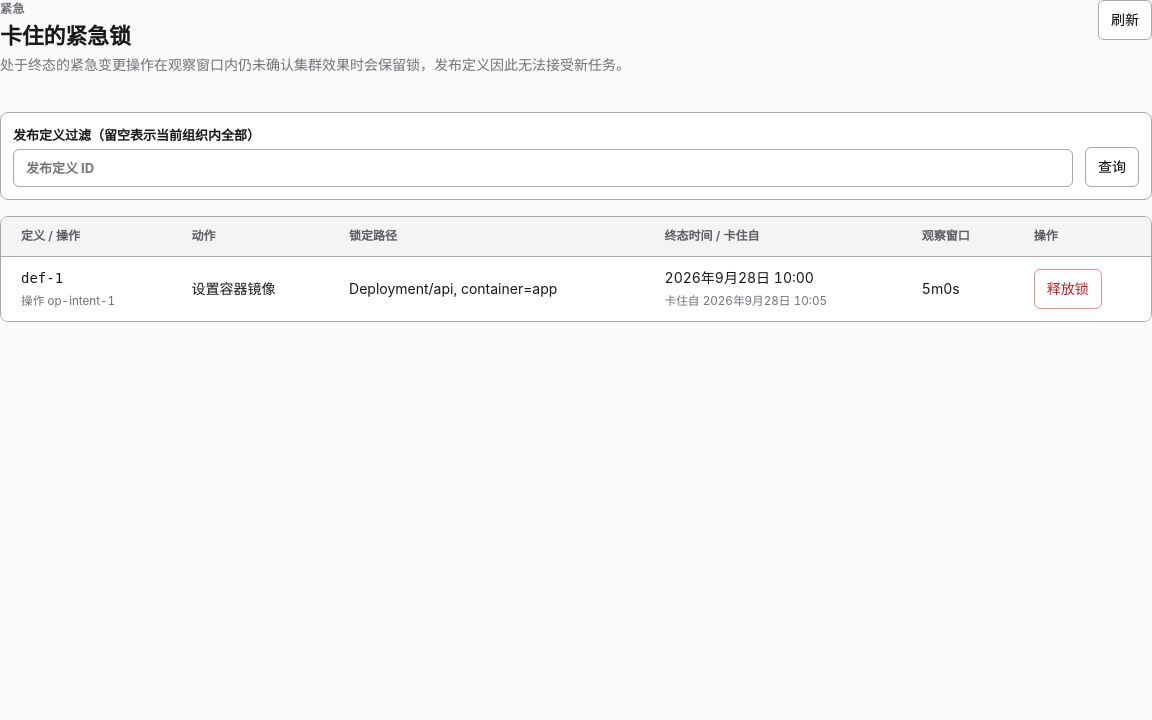
Test: StuckLocksPage › releases with the chosen mode and closes the dialog on success
Click the button "释放锁". click: (1068, 289)
box: [1034,269,1102,309]
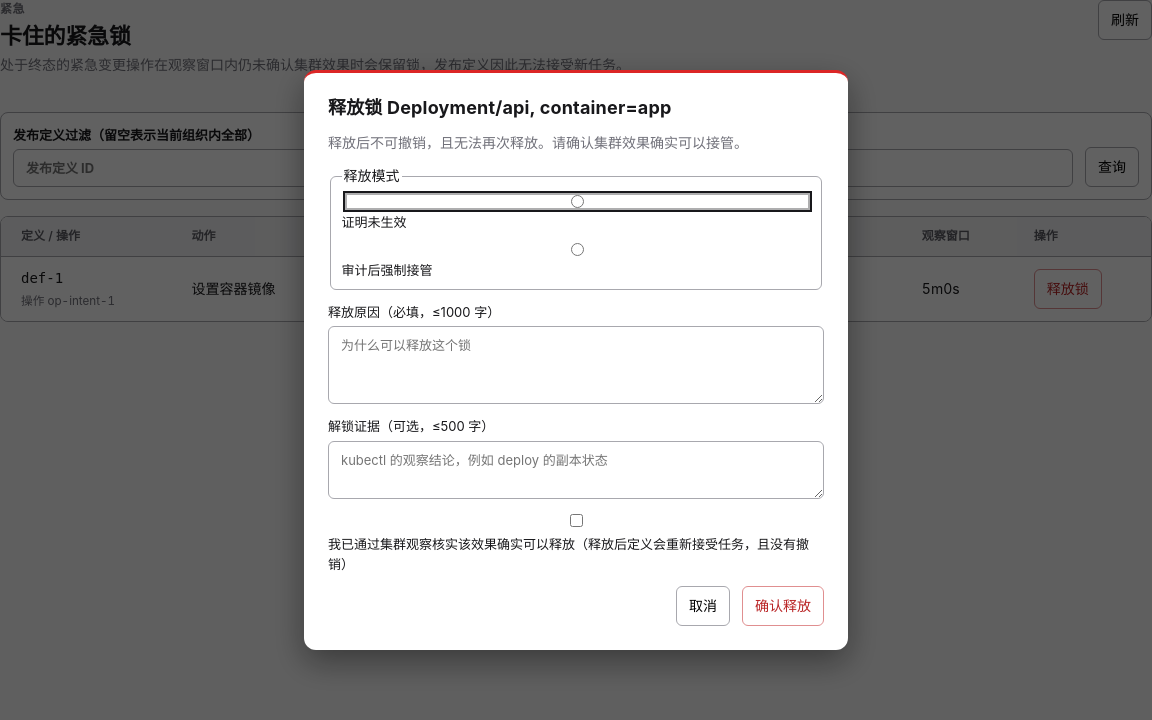
Type "cannot prove, taking over" into the text box labelled "释放原因（必填，≤1000 字）". click: (576, 365)
box: [328,326,824,404]
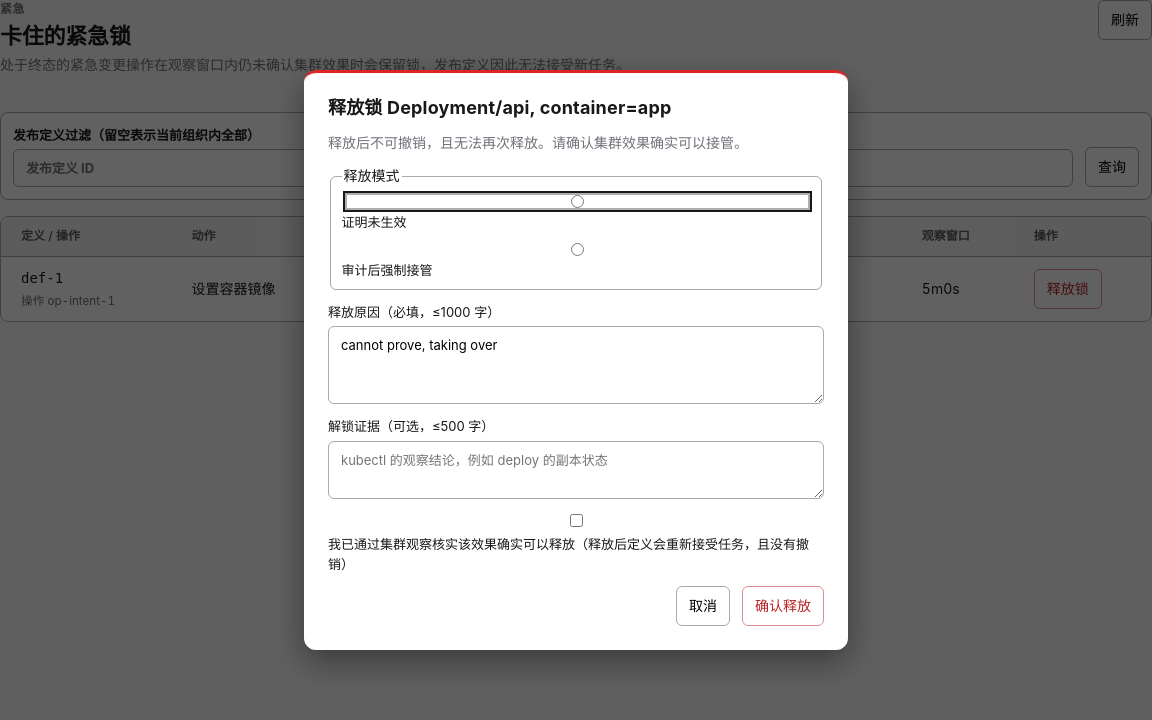
Type "pods still old" into the text box labelled "解锁证据（可选，≤500 字）". click: (576, 470)
box: [328,441,824,499]
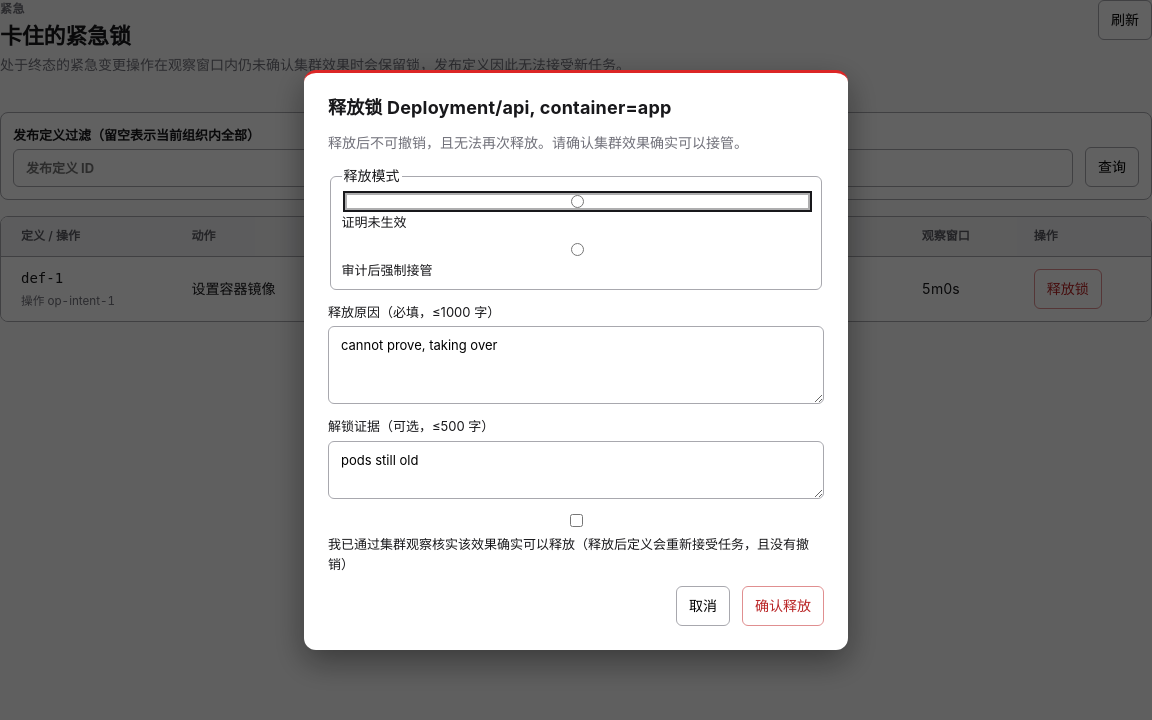
Click the radio button labelled "审计后强制接管". click: (577, 250)
box: [346,243,808,256]
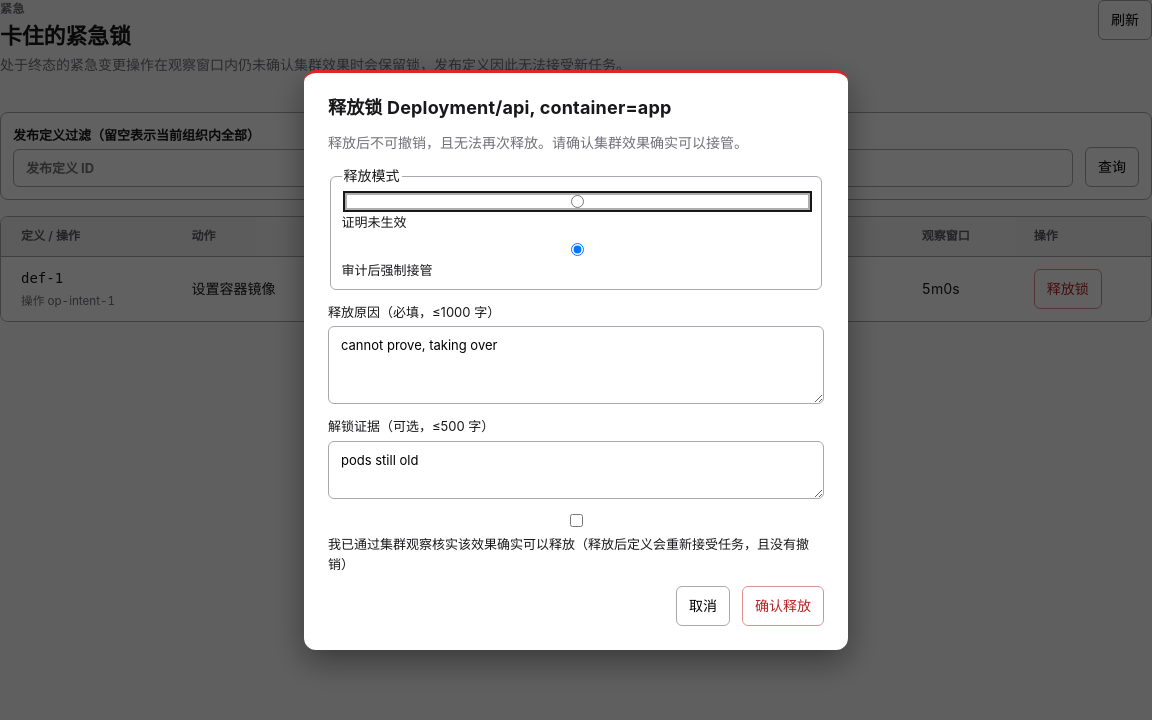
Click the checkbox named "acknowledged". click: (576, 520)
box: [332,514,821,527]
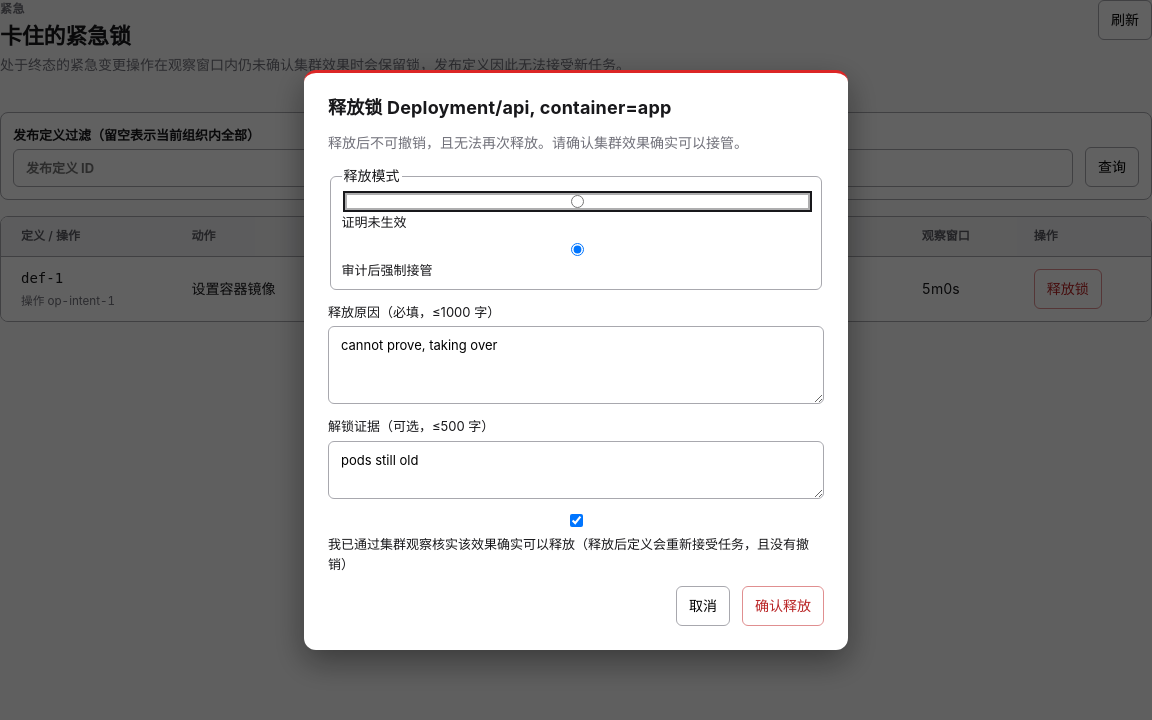
Submit the form with class "stuck__form", box [328,165,824,626]
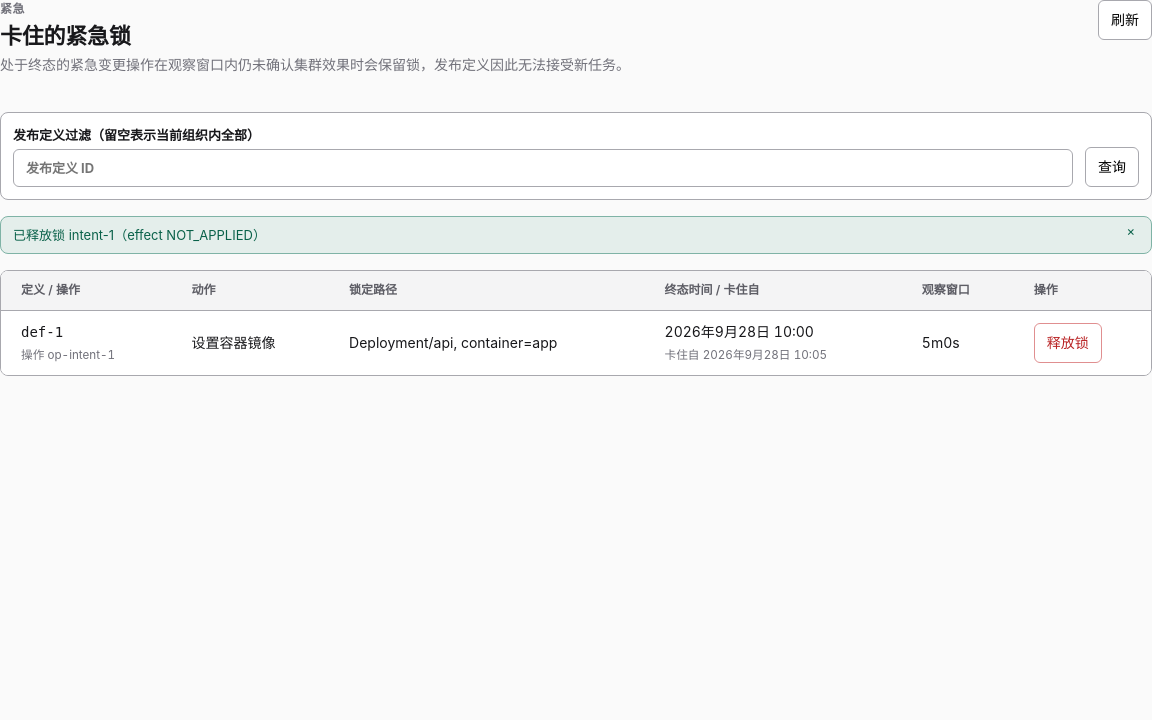
Expected: the dialog is gone
